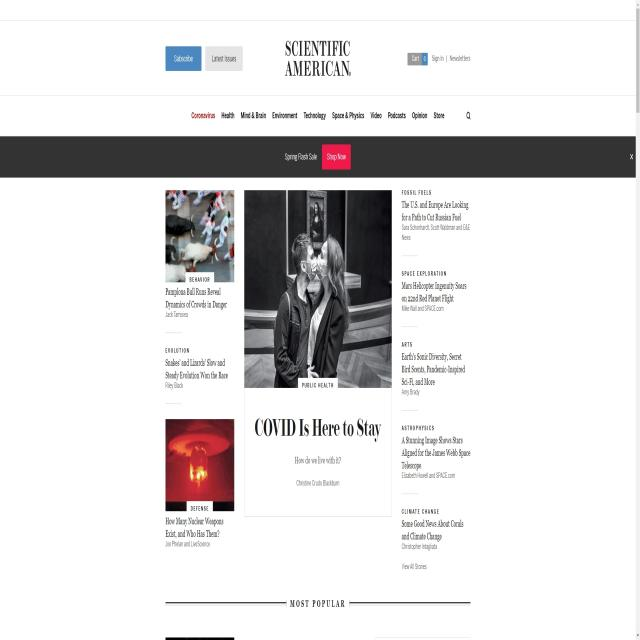menu-bar: (409, 48, 475, 74)
tab-bar: (182, 102, 448, 128)
